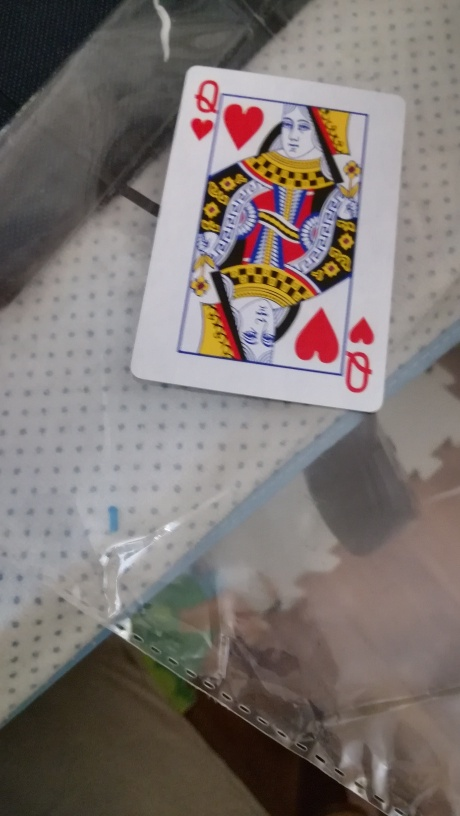hx q: (125, 56, 405, 420)
